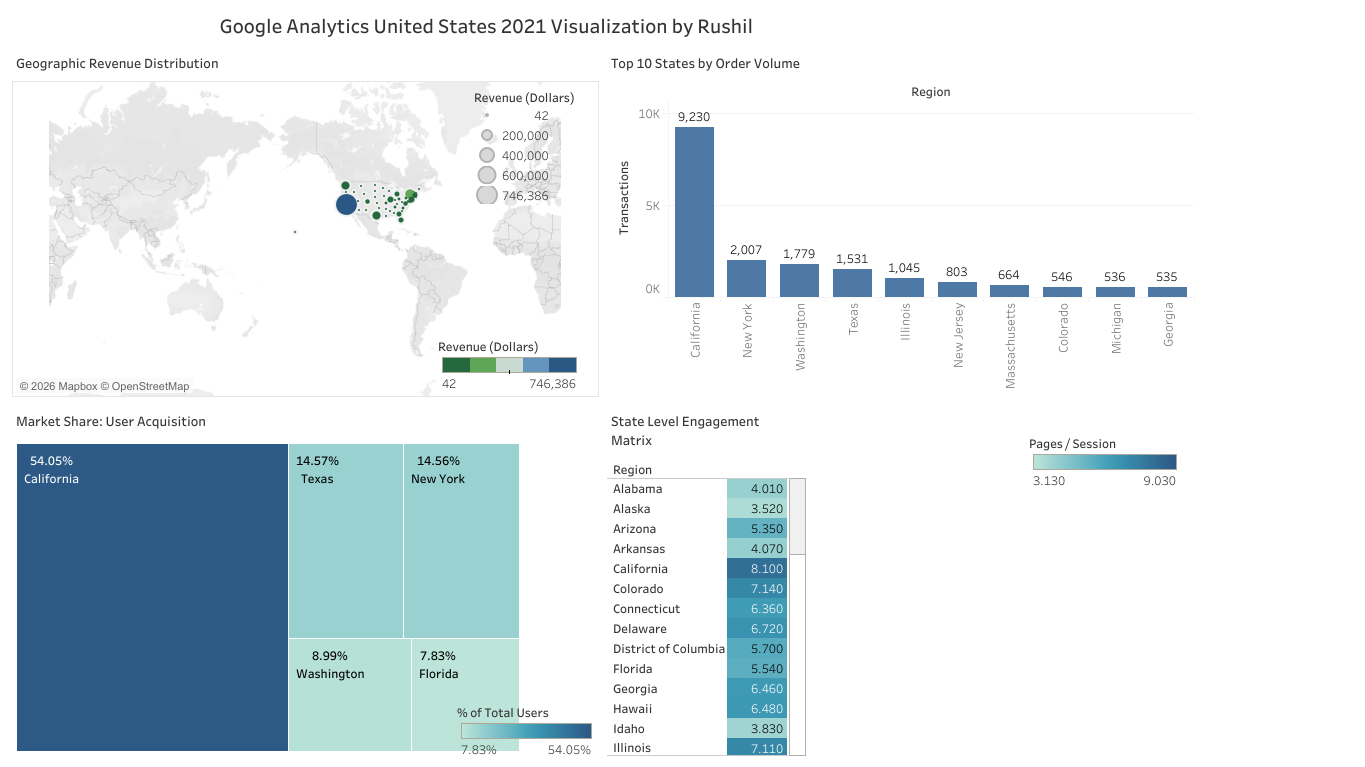

What the dashboard file says about the page in this screenshot:
{"tool":"tableau","page":{"name":"Dashboard - Google Analytics USA 2021","canvas":[1366,768],"ordinal":0},"visuals":[{"type":"title","box":[8,8,1350,35]},{"type":"worksheet","title":"Symbol Map","mark":"Automatic","box":[8,43,595,358.5]},{"type":"worksheet","title":"Bar Chart","mark":"Automatic","rows":["Transactions"],"cols":["Region"],"box":[603,43,595,358.5]},{"type":"legend","title":"Tree Map","param":"[federated.1ou6tn40xs0qyl18byu9g0ck79j3].[pcto:sum:Users:qk:1]","box":[1198,43,160,22]},{"type":"legend","title":"Symbol Map","param":"[federated.1ou6tn40xs0qyl18byu9g0ck79j3].[sum:Revenue (Dollars):qk]","box":[473,86,127,120]},{"type":"legend","title":"Symbol Map","param":"[federated.1ou6tn40xs0qyl18byu9g0ck79j3].[sum:Revenue (Dollars):qk]","box":[438,333,143,63]},{"type":"worksheet","title":"Tree Map","mark":"Automatic","box":[8,401.5,595,358.5]},{"type":"worksheet","title":"Highlight Table","mark":"Square","rows":["Region"],"box":[603,401.5,595,358.5]},{"type":"legend","title":"Highlight Table","param":"[federated.1ou6tn40xs0qyl18byu9g0ck79j3].[sum:Pages / Session:qk]","box":[1029,430,152,79]},{"type":"legend","title":"Tree Map","param":"[federated.1ou6tn40xs0qyl18byu9g0ck79j3].[pcto:sum:Users:qk]","box":[457,699,139,57]}]}

Visuals, with their boxes in screenshot pixels (x1, y1, x2, y2), scaled from the page's 1366x768 canvas onto the 1365x767 screenshot:
title: 8 8 1357 43
"Symbol Map" worksheet: 8 43 603 401
"Bar Chart" worksheet: 603 43 1197 401
"Tree Map" legend: 1197 43 1357 65
"Symbol Map" legend: 473 86 600 206
"Symbol Map" legend: 438 333 581 395
"Tree Map" worksheet: 8 401 603 759
"Highlight Table" worksheet (Square marks): 603 401 1197 759
"Highlight Table" legend: 1028 429 1180 508
"Tree Map" legend: 457 698 596 755
